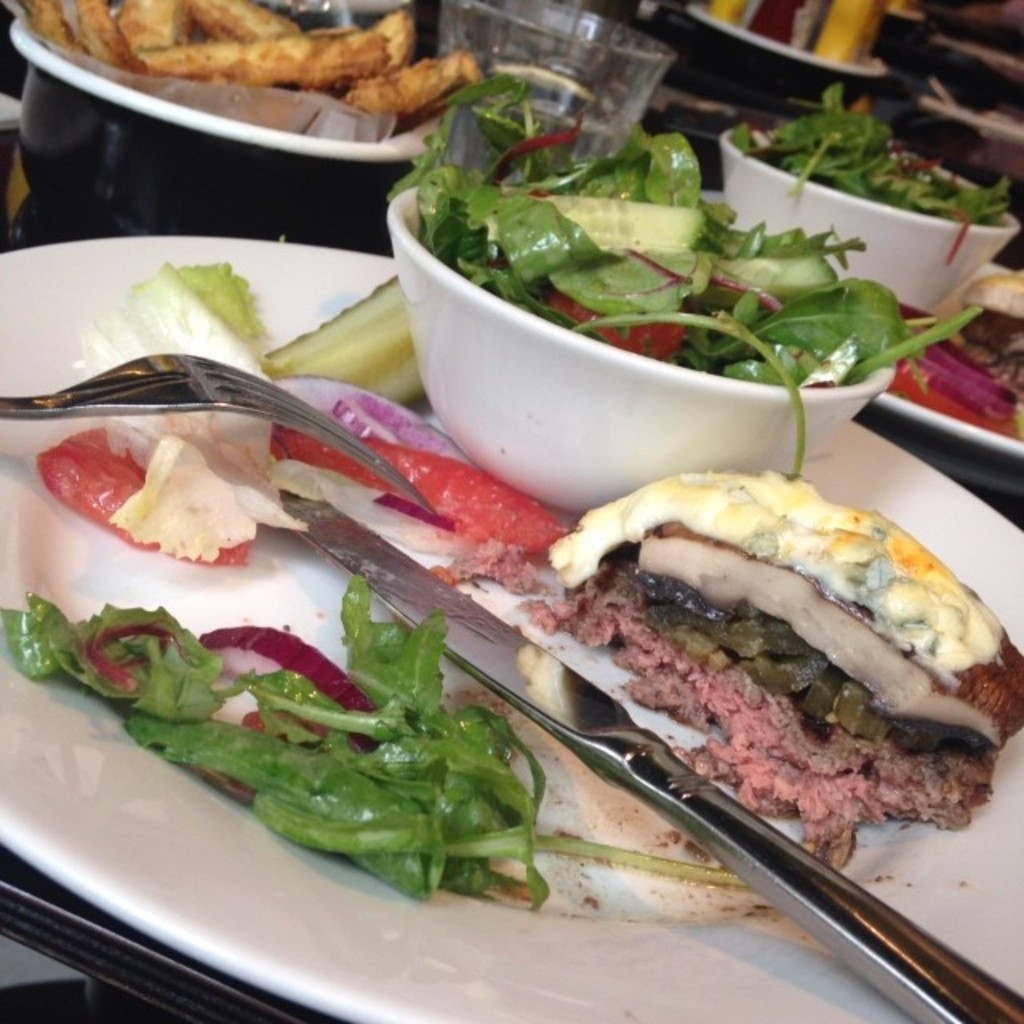French fries: (7, 0, 483, 148)
